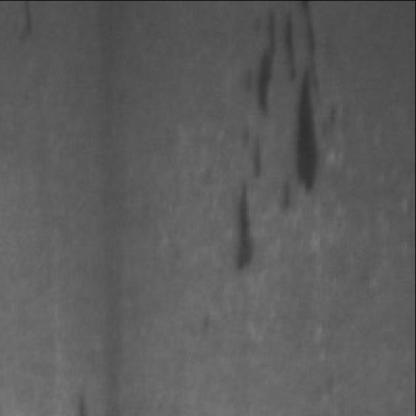inclusion: (249, 4, 332, 216), (71, 222, 131, 416), (227, 137, 266, 279)
